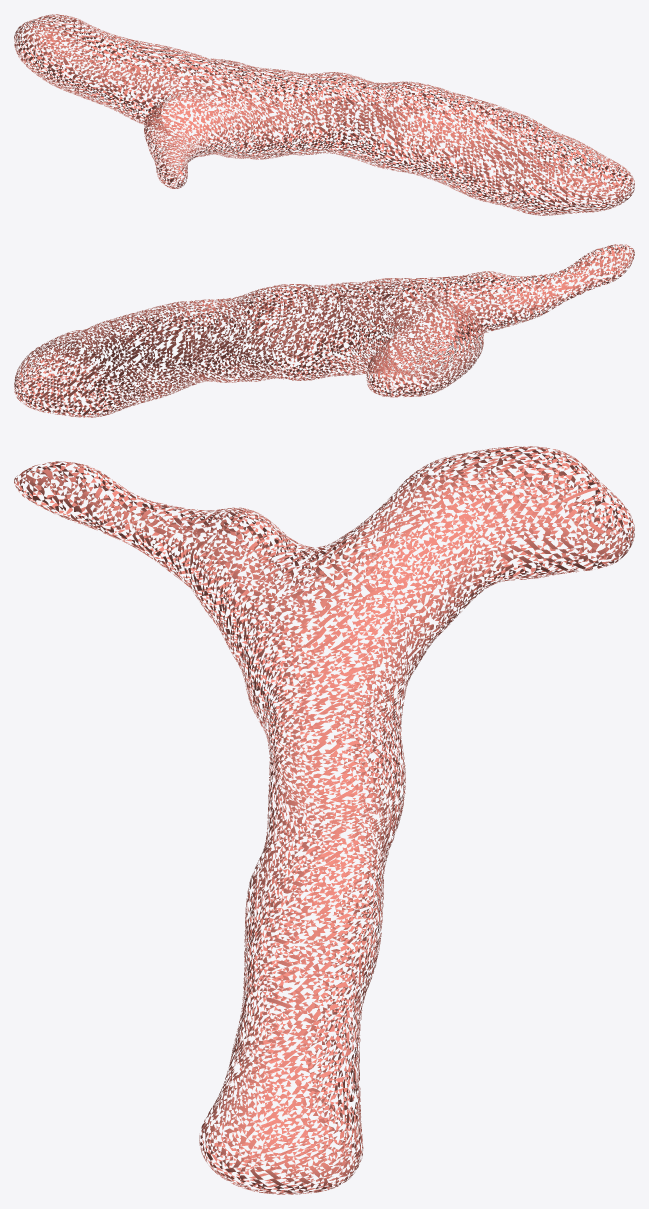
The model's file is diseased.glb.
3 views of the same model, one above another, from view 1: azimuth 30°, elevation 25°; view 2: azimuth 150°, elevation 25°; view 3: azimuth 270°, elevation 25° (orthographic). The views are drawn at different scales.
Bounding box in the file's own units: 124 × 52.85 × 78.99.
